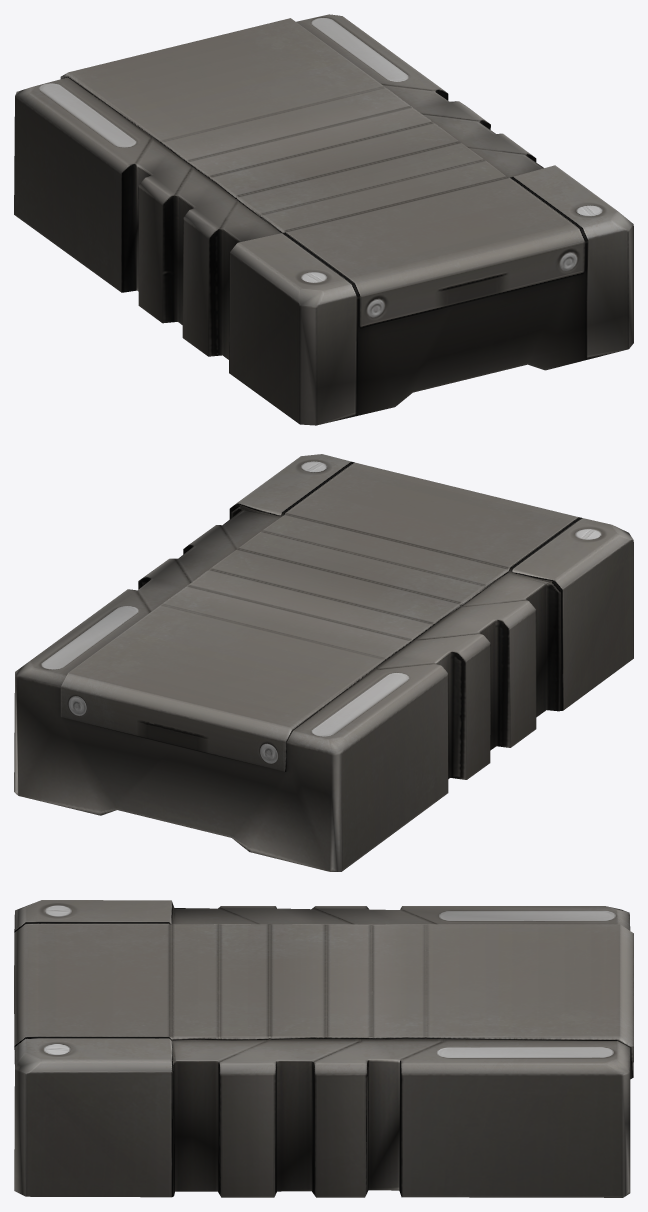
3 views of the same model, one above another, from view 1: azimuth 30°, elevation 25°; view 2: azimuth 150°, elevation 25°; view 3: azimuth 270°, elevation 25° (orthographic). The views are drawn at different scales.
Parts seen in each view (by area): view 1: LowBox:RetopoGroup1; view 2: LowBox:RetopoGroup1; view 3: LowBox:RetopoGroup1.
Part boxes in pixels (<box>): LowBox:RetopoGroup1: <box>14,14,633,425</box>; LowBox:RetopoGroup1: <box>14,454,633,871</box>; LowBox:RetopoGroup1: <box>14,900,633,1197</box>.
Size of the model in its own units: 39.12 by 14.68 by 60.82.
